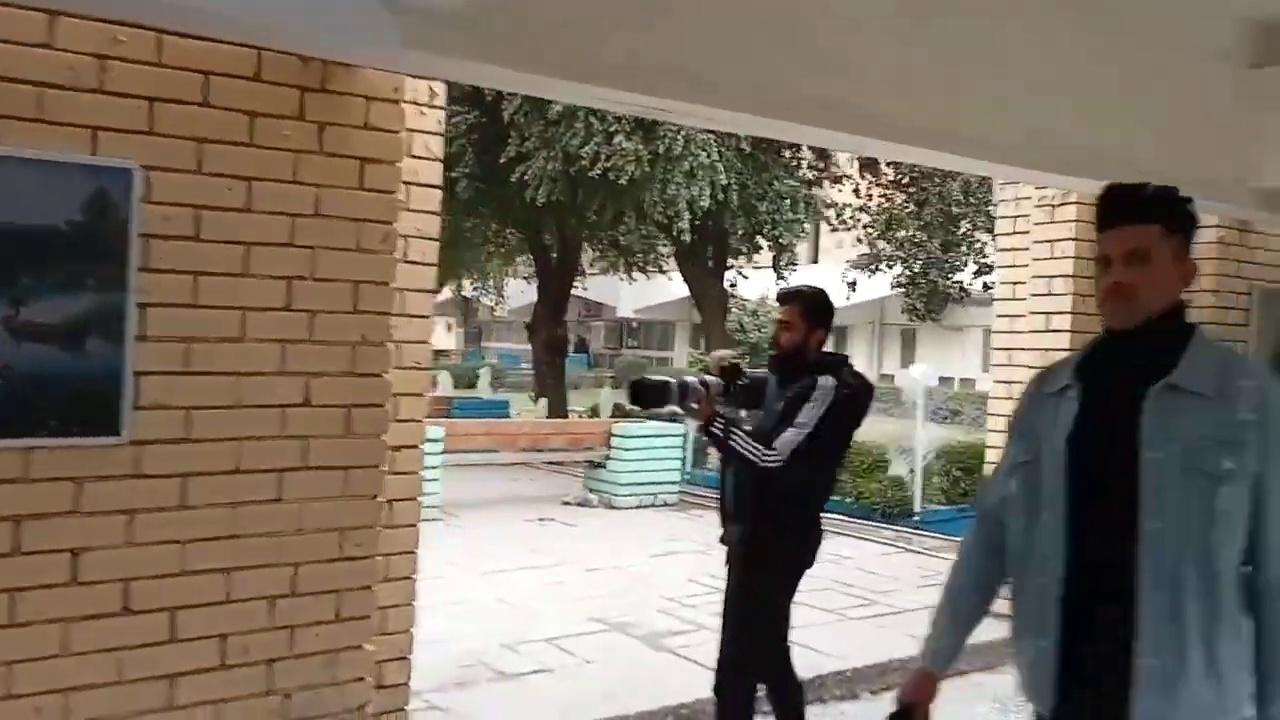fountain: (825, 361, 989, 537)
person: (892, 180, 1279, 718), (684, 283, 875, 718)
tree: (438, 82, 837, 418), (593, 123, 838, 373), (828, 156, 997, 324)
